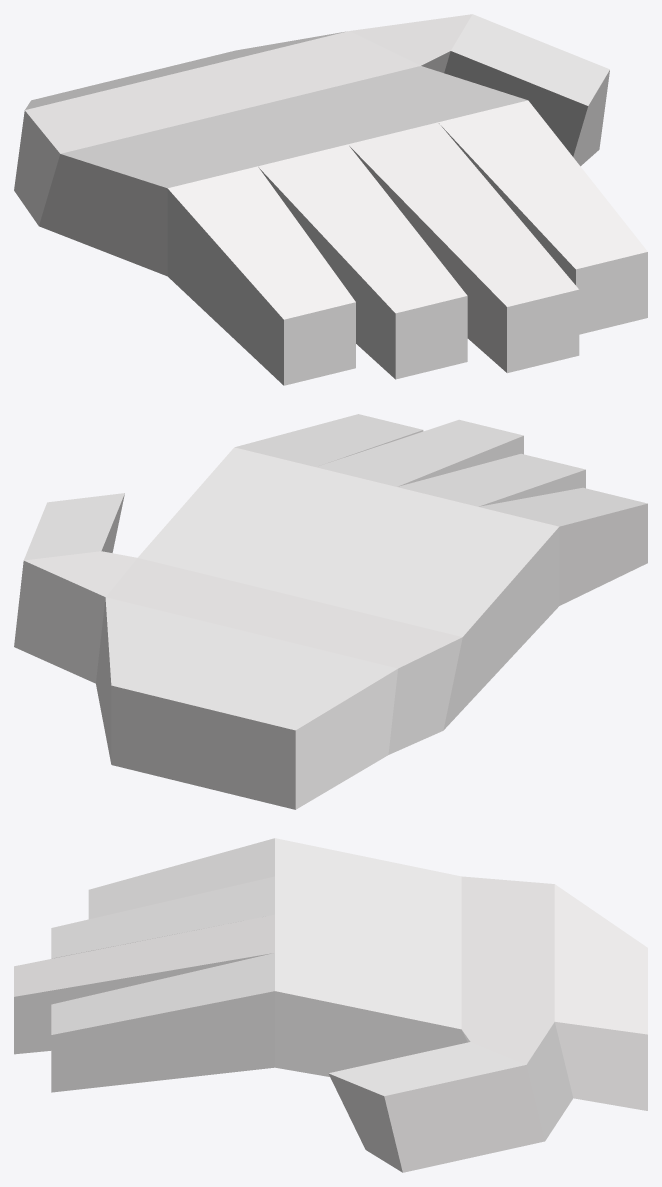
Rendered from hand_right.glb.
The picture shows the model from 3 angles, top to bottom: view 1: azimuth 30°, elevation 25°; view 2: azimuth 150°, elevation 25°; view 3: azimuth 270°, elevation 25°; orthographic projection. The views are drawn at different scales.
Parts seen in each view (by area): view 1: hand right; view 2: hand right; view 3: hand right.
Part boxes in pixels (x1,y1,x2,y2): hand right: (14, 14, 647, 385); hand right: (14, 414, 647, 809); hand right: (14, 838, 647, 1172).
Bounding box in the file's own units: 0.75 × 0.25 × 0.9375.
1 material, 1 textured.
